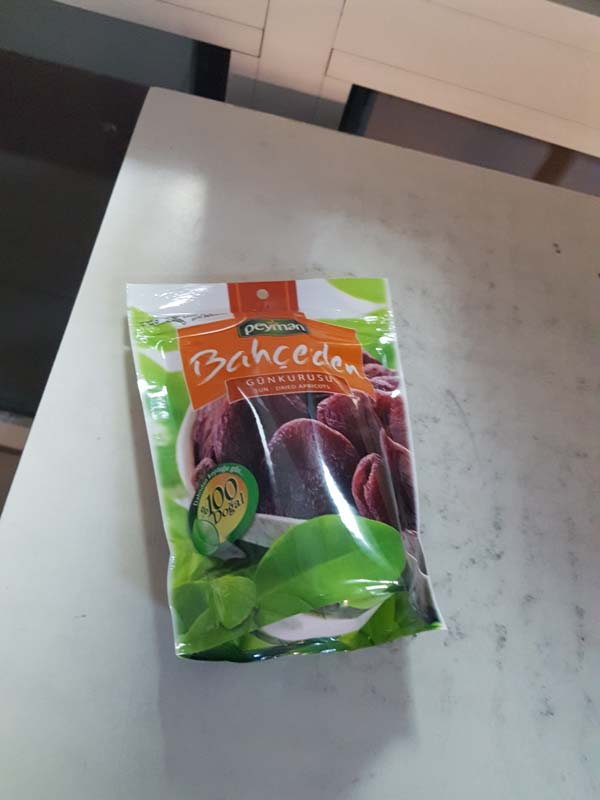bahcedengunkurusu: (121, 266, 457, 685)
